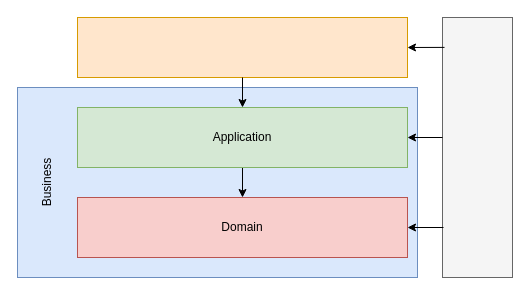
Image size: 530x295. Some labels were removed from this diagram. The shapes that lost their labels are listed below. From the top down, each one's centre as x and y in pixels, then its label:
At pixel 242 47: "Presentation".
At pixel 477 147: "Infrastructure".
